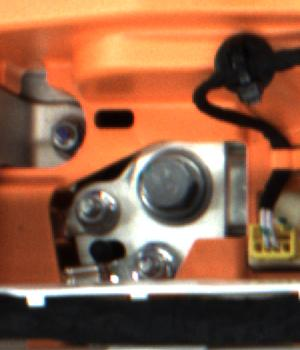nut_b: (129, 150, 214, 226)
